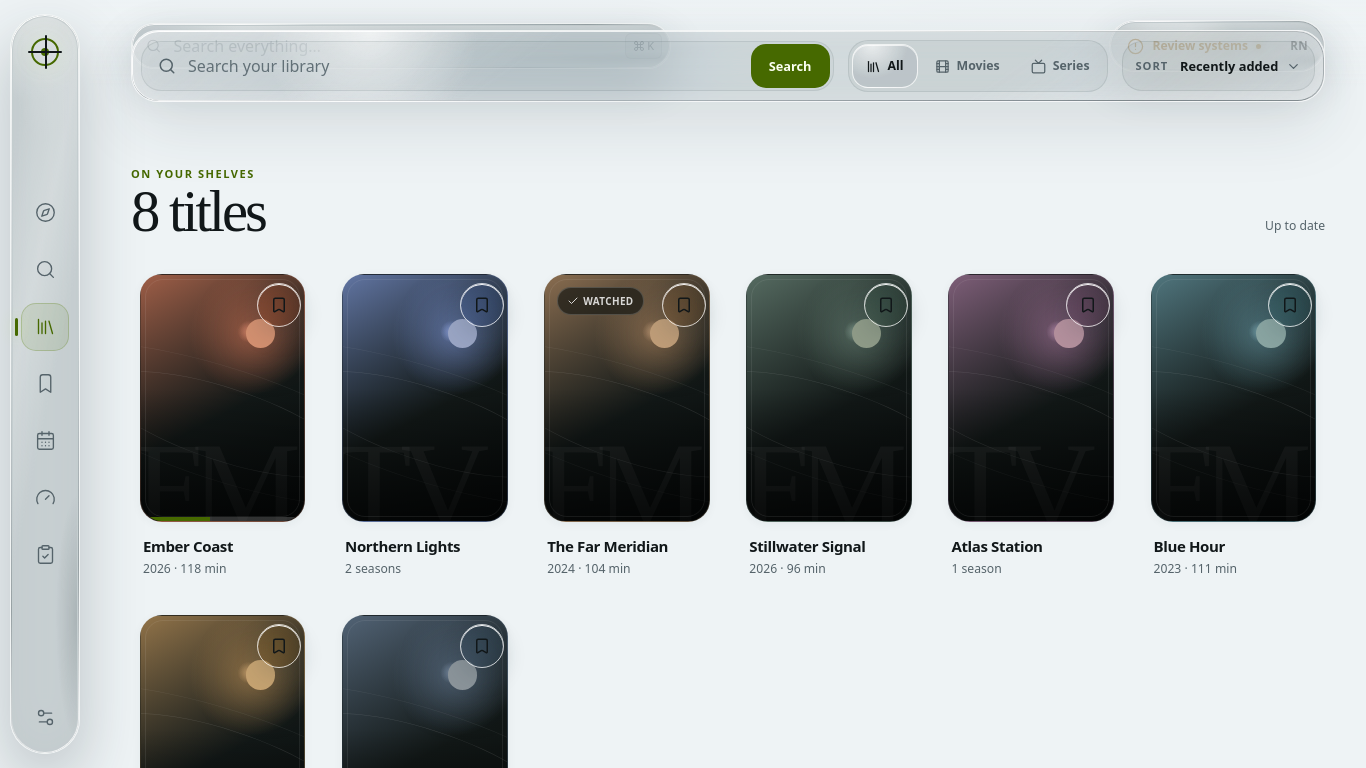
Scenario: MediaLibrary › keeps original-download failures bounded and supports a clean retry
(page scrolled)
Click the button with aria-label "View details for Ember Coast".
click(223, 426)  # box 134,272 -> 312,580
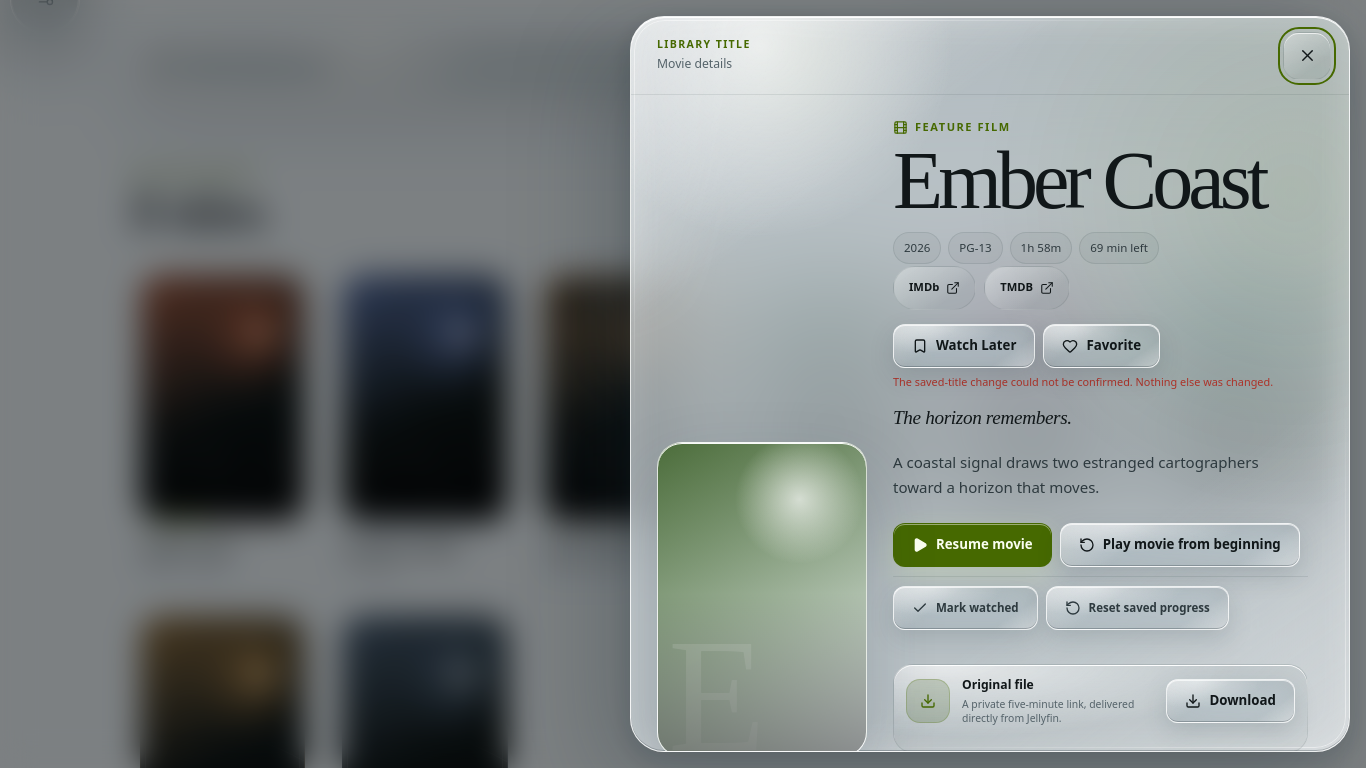
Click the button "Download".
click(1231, 701)  # box 1166,679 -> 1295,723
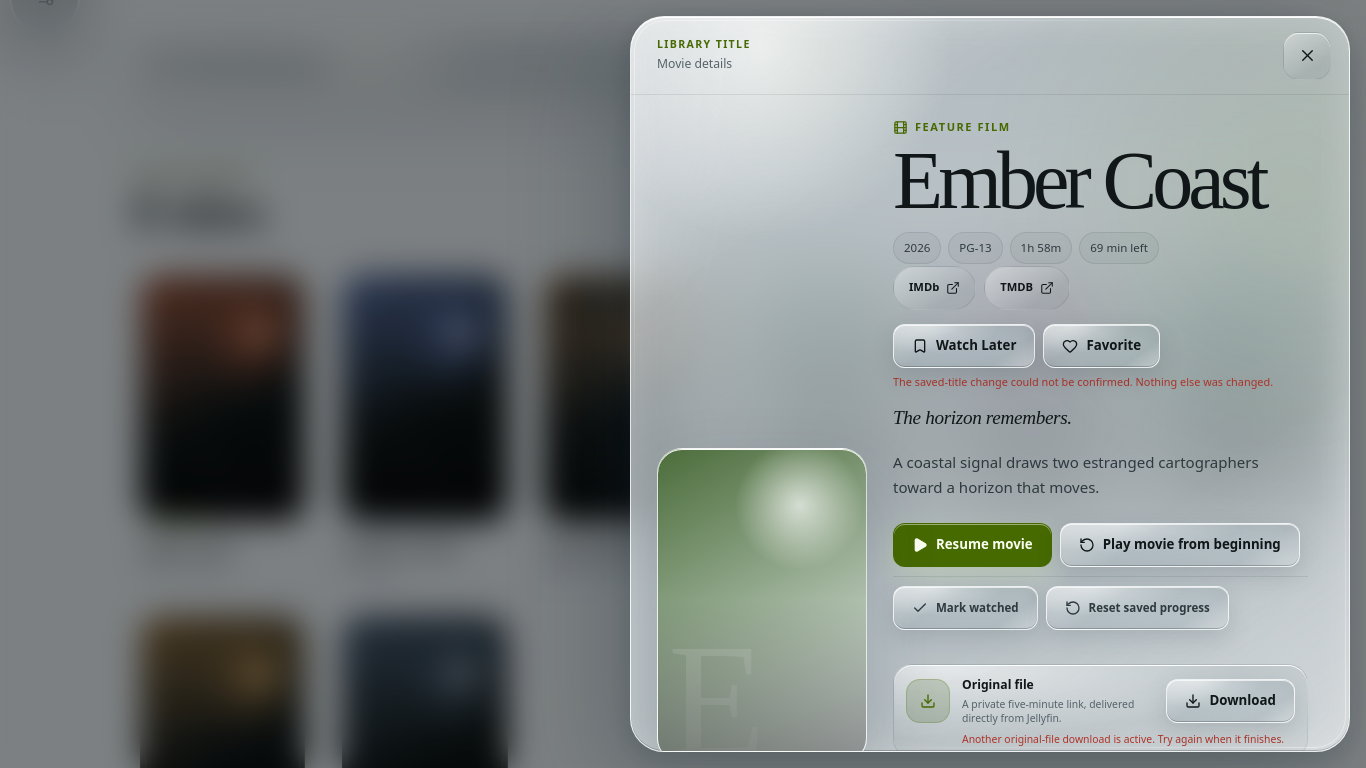
Check: the dialog named "Ember Coast details" does not show "Private upstream detail", box 630,16 -> 1350,752
Check: the text "Another original-file download is active" is shown, box 962,732 -> 1284,746
Click the button "Download".
click(1231, 701)  # box 1166,679 -> 1295,723
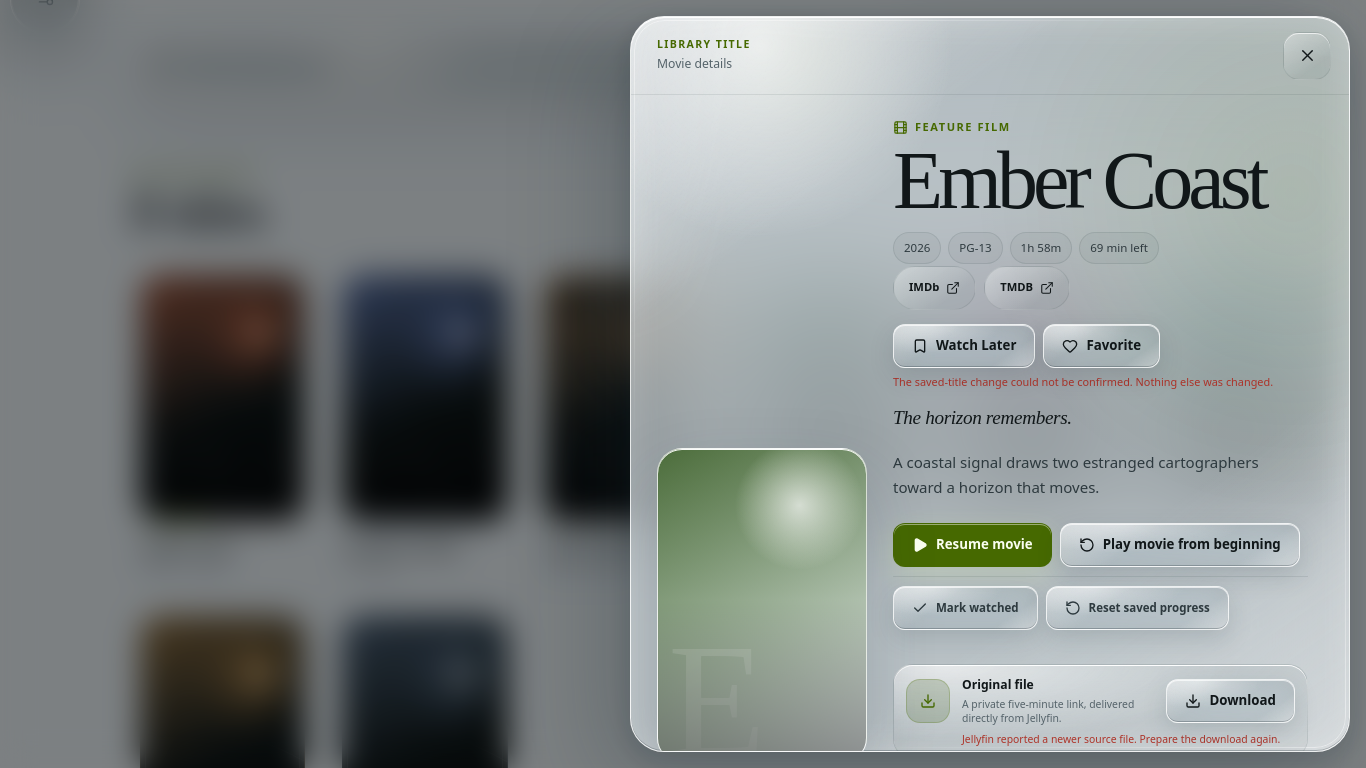
Check: the text "Jellyfin reported a newer source file" is shown, box 962,732 -> 1280,746
Click the button "Download".
click(1231, 701)  # box 1166,679 -> 1295,723
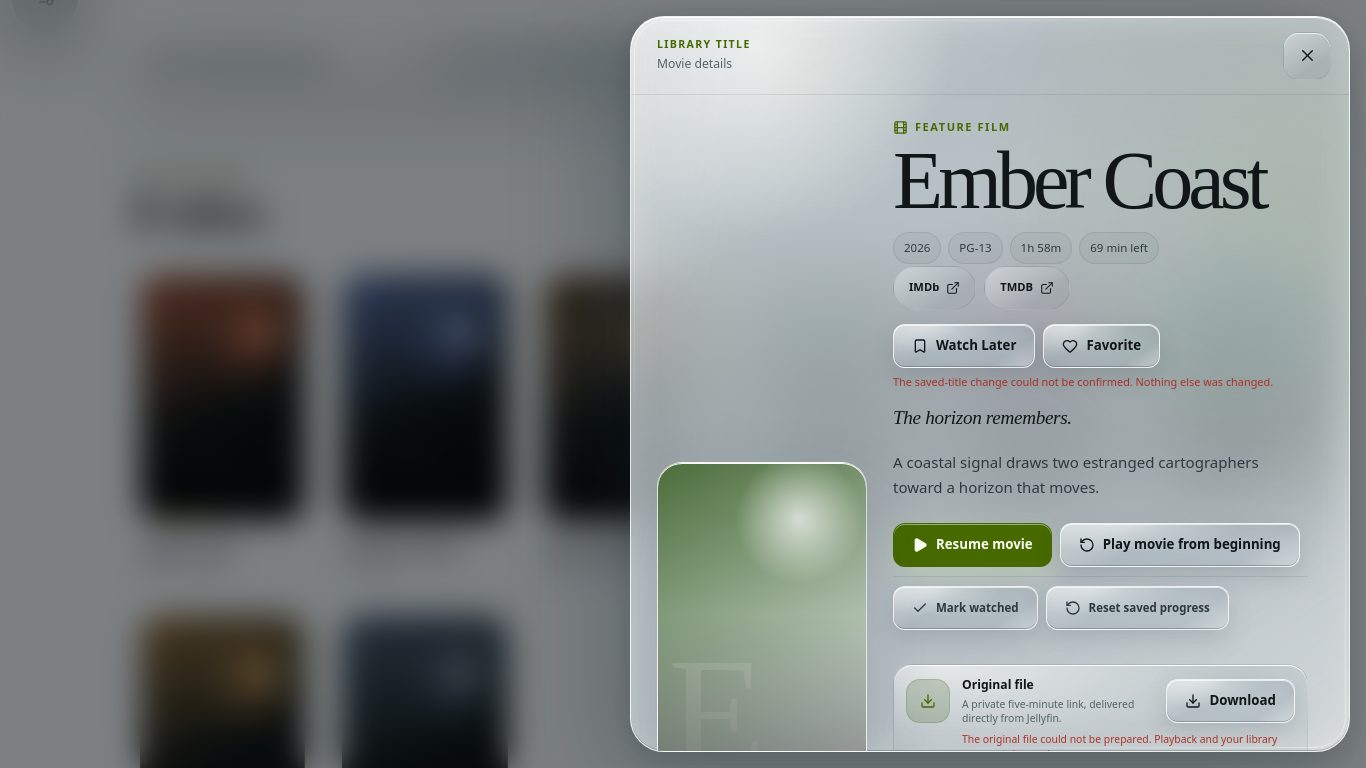
Check: the dialog named "Ember Coast details" does not show "private transport detail", box 630,16 -> 1350,752
Check: the text "The original file could not be prepared" is shown, box 962,732 -> 1277,751
Click the button "Download".
click(1231, 701)  # box 1166,679 -> 1295,723
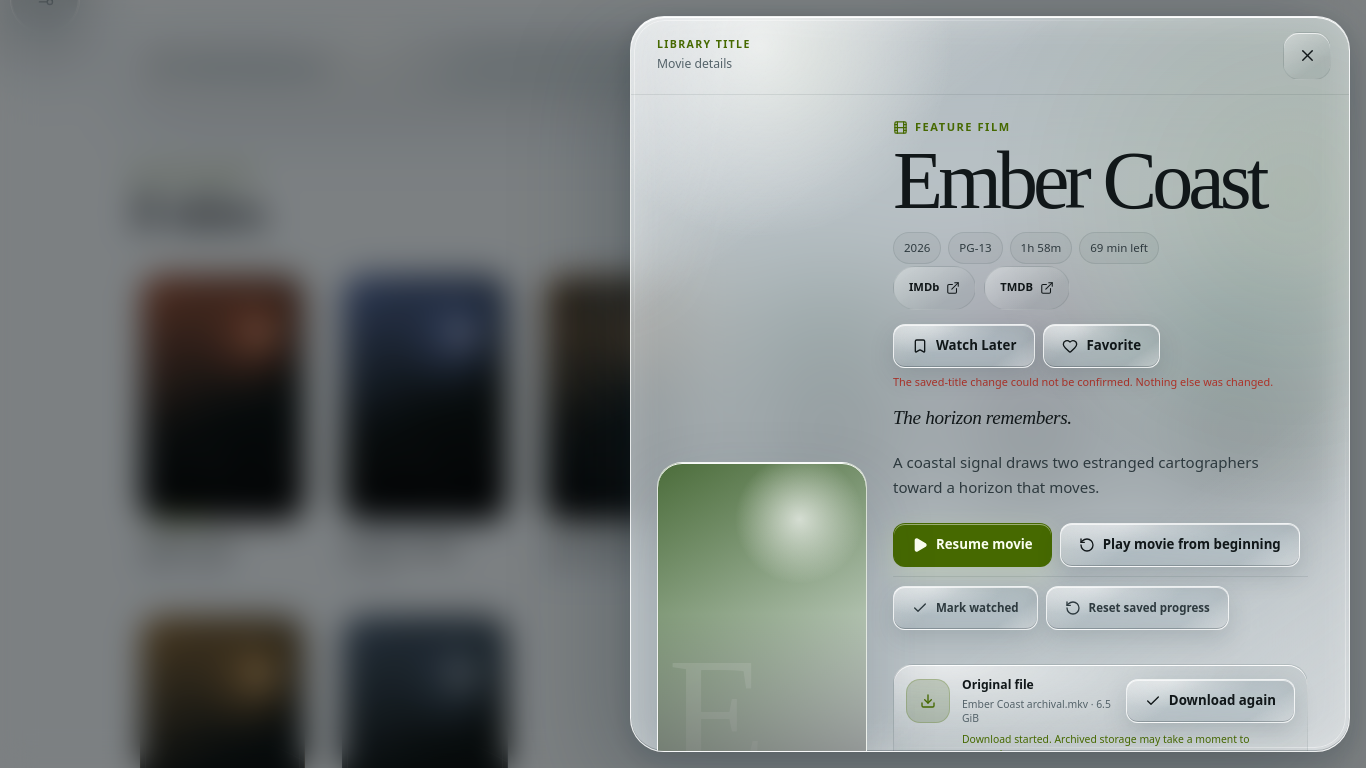
Check: the text "Archived storage may take a moment to respond" is shown, box 962,732 -> 1250,751
Check: the button "Download again" is shown, box 1126,679 -> 1295,723
